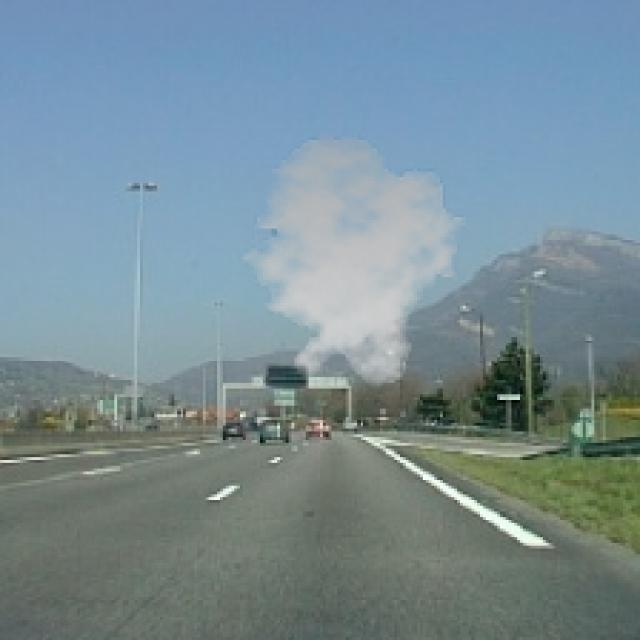Smoke: (228, 134, 472, 389)
